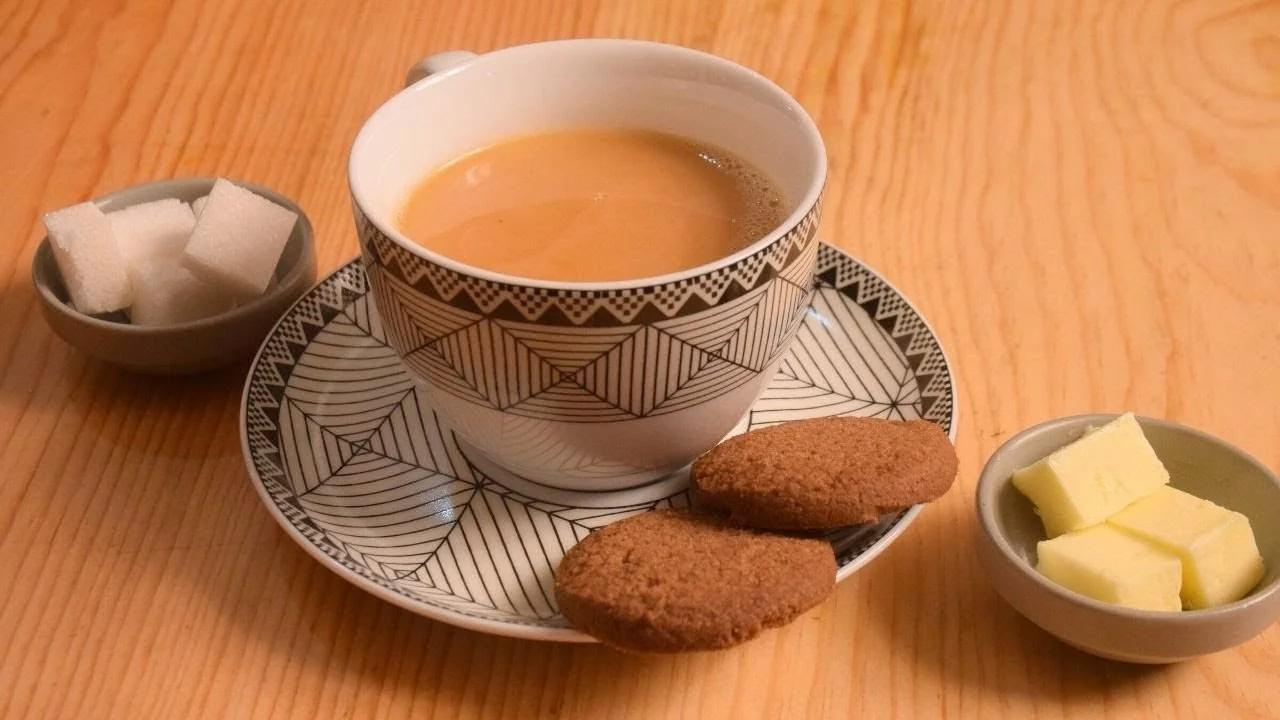Chai: (393, 131, 794, 282)
